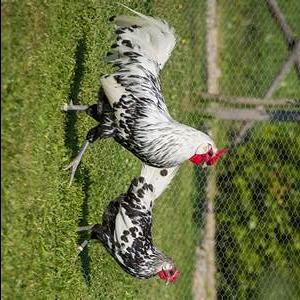hen: (59, 1, 229, 188), (74, 162, 183, 285)
